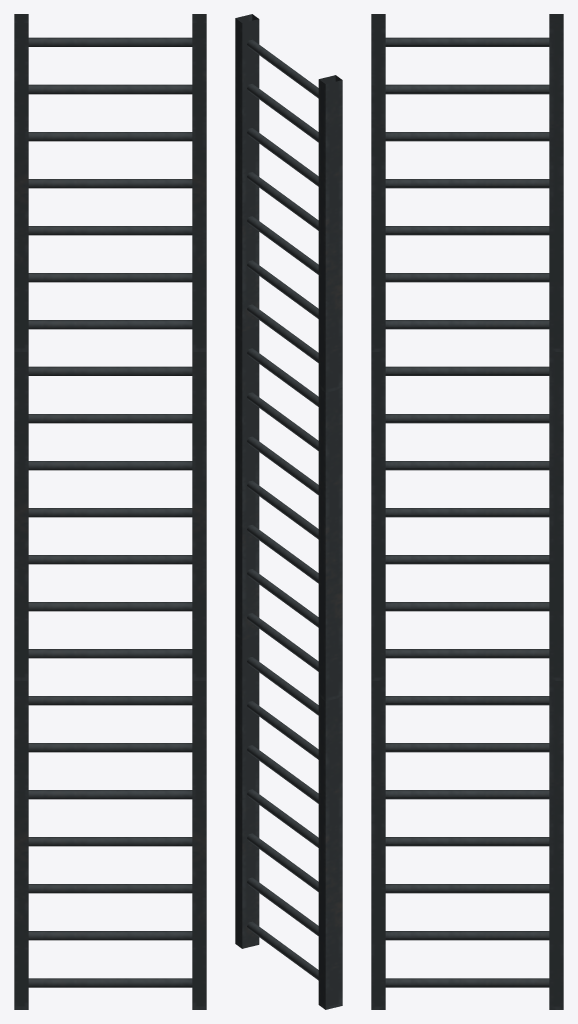
The model's file is FireEscape_Ladder.fbx.
3 views of the same model, side by side, from view 1: azimuth 90°, elevation 25°; view 2: azimuth 210°, elevation 25°; view 3: azimuth 270°, elevation 25° (orthographic). The views are drawn at different scales.
Visible parts, largest first — view 1: FireEscape_Ladder_LOD0; view 2: FireEscape_Ladder_LOD0; view 3: FireEscape_Ladder_LOD0.
Boxes of the visible parts, <box> form: FireEscape_Ladder_LOD0: <box>14,14,206,1009</box>; FireEscape_Ladder_LOD0: <box>235,14,342,1009</box>; FireEscape_Ladder_LOD0: <box>371,14,563,1009</box>.
Size of what is drawn, in the model's own units: 5.76 by 300 by 53.
